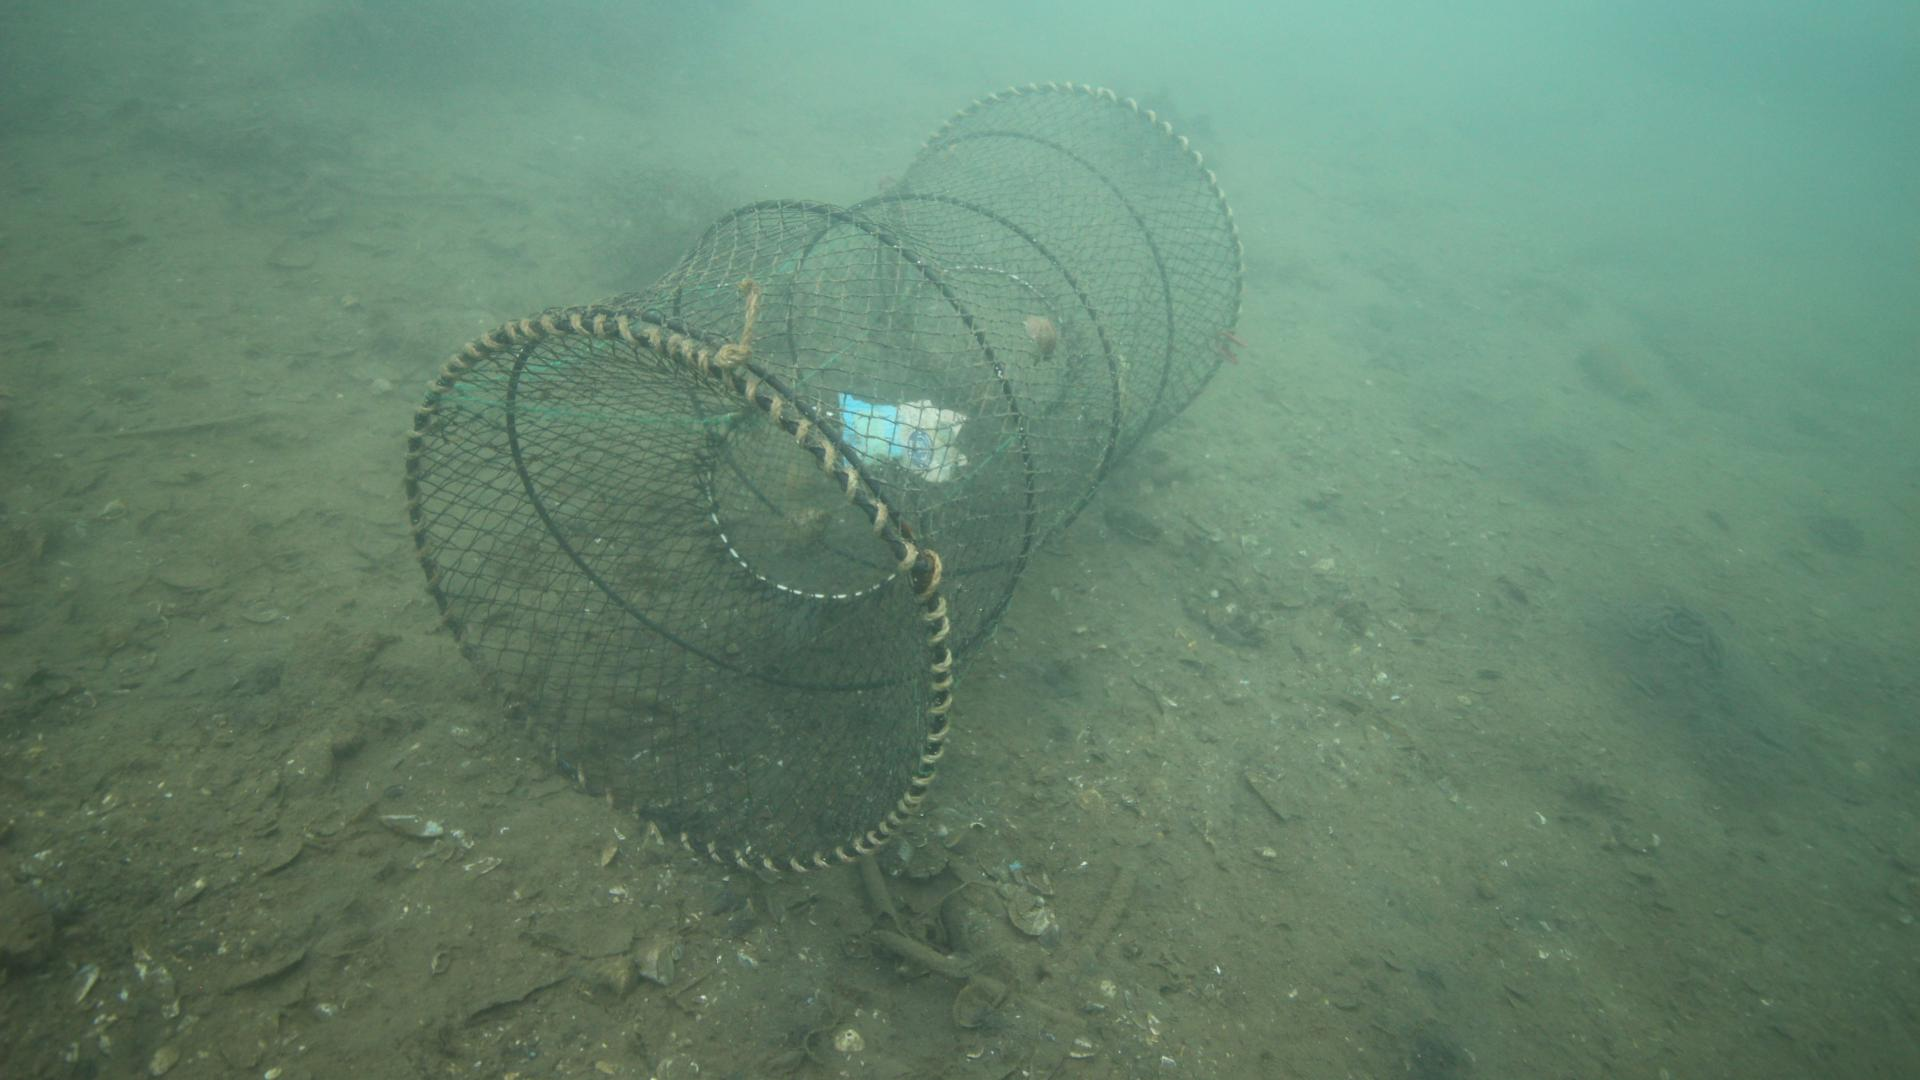spring fish trap: (404, 82, 1245, 872)
